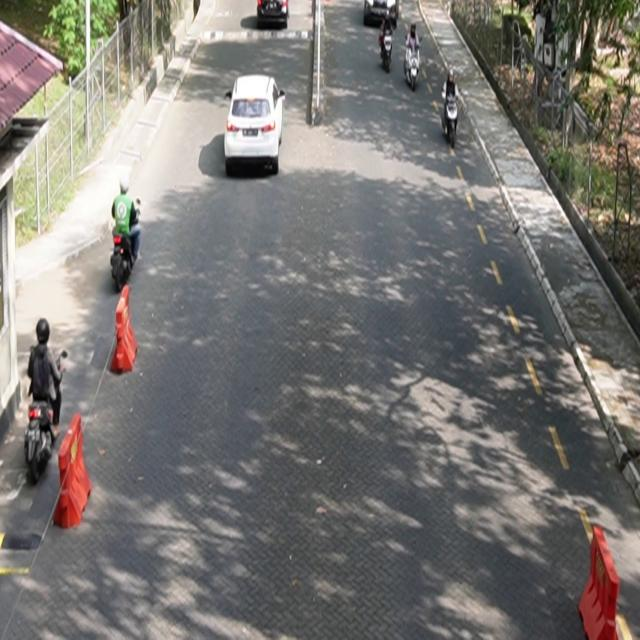car: (225, 74, 286, 176), (257, 1, 289, 28)
